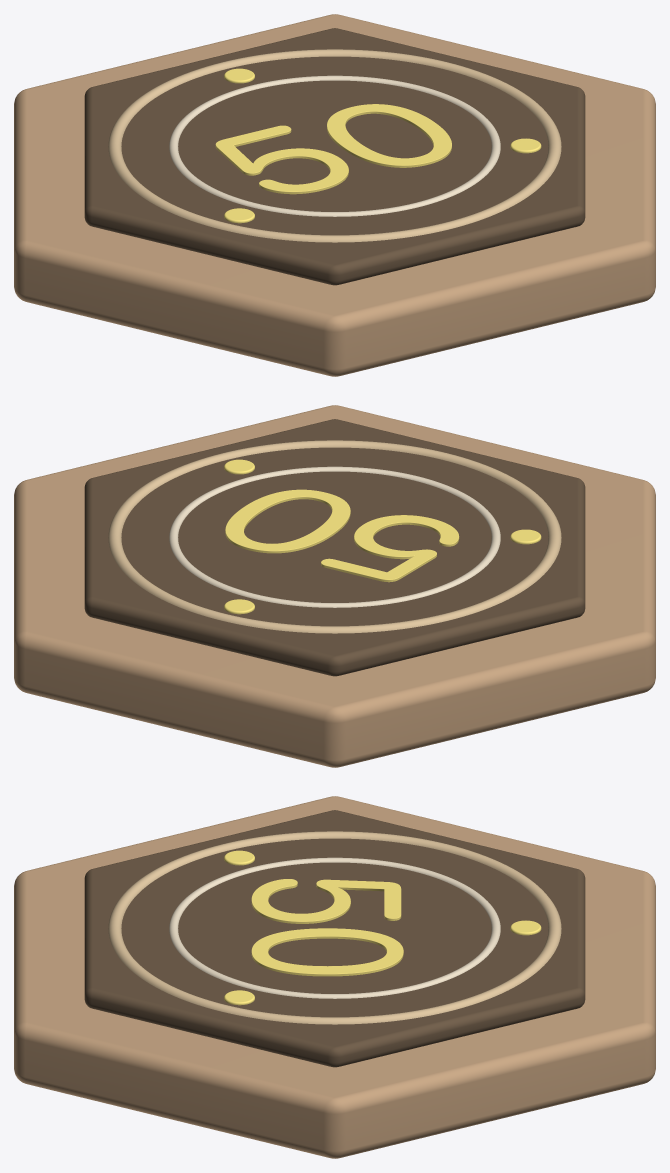
The model's file is achievement_workout_50.glb.
The picture shows the model from 3 angles, top to bottom: view 1: azimuth 30°, elevation 25°; view 2: azimuth 150°, elevation 25°; view 3: azimuth 270°, elevation 25°; orthographic projection.
Visible parts, largest first — view 1: colored hex milestone border, inset enamel hex face, inner milestone ring, imprinted 50 workout count, milestone highlight ring; view 2: colored hex milestone border, inset enamel hex face, inner milestone ring, imprinted 50 workout count, milestone highlight ring; view 3: colored hex milestone border, inset enamel hex face, inner milestone ring, imprinted 50 workout count, milestone highlight ring.
Boxes of the visible parts, x1,y1,x2,y2 form: colored hex milestone border: [14, 14, 655, 376]; inset enamel hex face: [84, 28, 585, 285]; inner milestone ring: [108, 49, 561, 242]; imprinted 50 workout count: [215, 104, 451, 194]; milestone highlight ring: [169, 75, 500, 216]; colored hex milestone border: [14, 405, 655, 767]; inset enamel hex face: [84, 419, 585, 676]; inner milestone ring: [108, 440, 561, 633]; imprinted 50 workout count: [225, 489, 459, 582]; milestone highlight ring: [169, 466, 500, 607]; colored hex milestone border: [14, 796, 655, 1158]; inset enamel hex face: [84, 810, 585, 1067]; inner milestone ring: [108, 831, 561, 1024]; imprinted 50 workout count: [251, 879, 403, 976]; milestone highlight ring: [169, 857, 500, 998].
Bounding box in the file's own units: 1.98 × 0.246 × 1.73.
